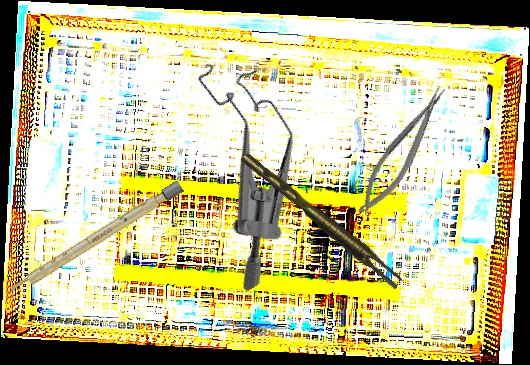Needle Holder: (347, 80, 460, 222)
Scalpel Handle: (4, 180, 185, 299)
Speculum: (132, 43, 354, 293)
Tissue Forceps: (240, 144, 405, 295)
